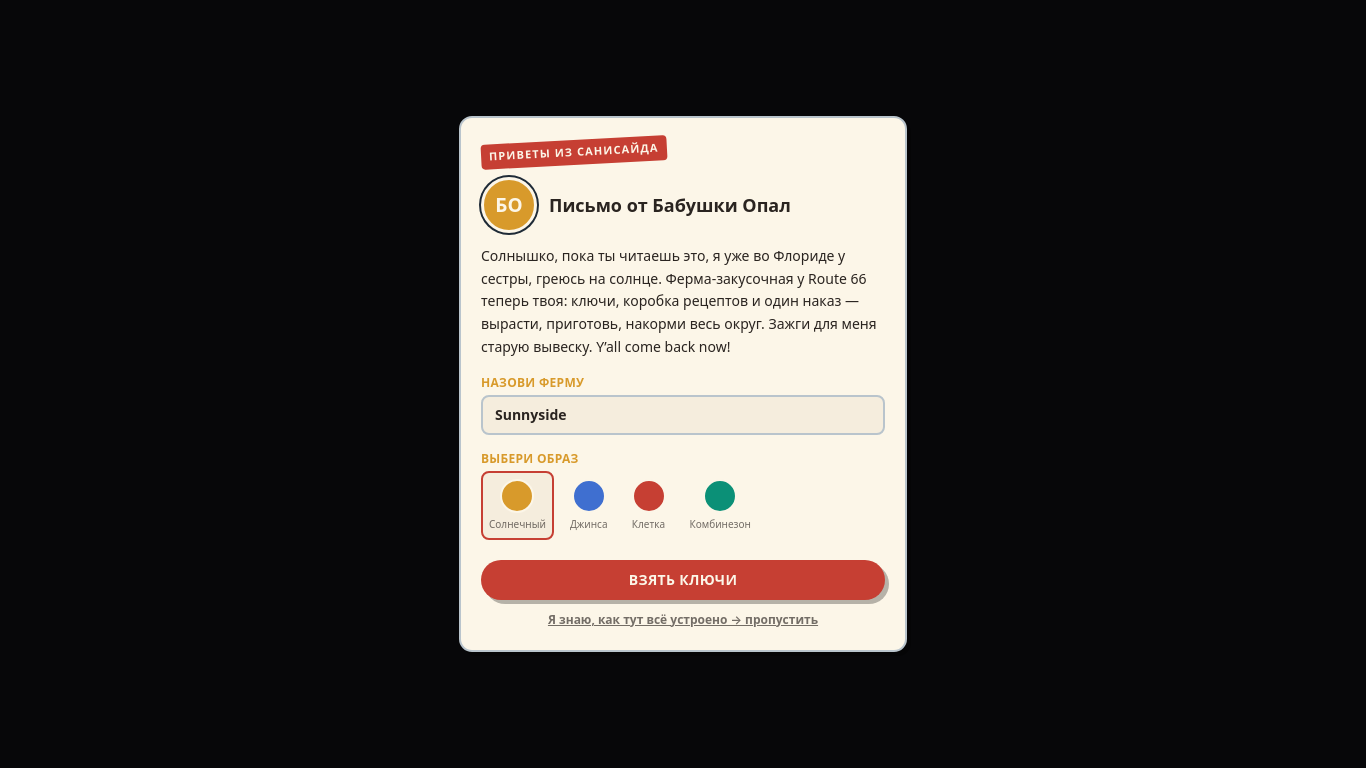
Test case: LegacyLetter (§2.1/§3.7) › Skip опытного игрока сразу выпускает (§3.7)
Click the button with test id "onboarding-skip": click(683, 620) [481, 612, 885, 628]
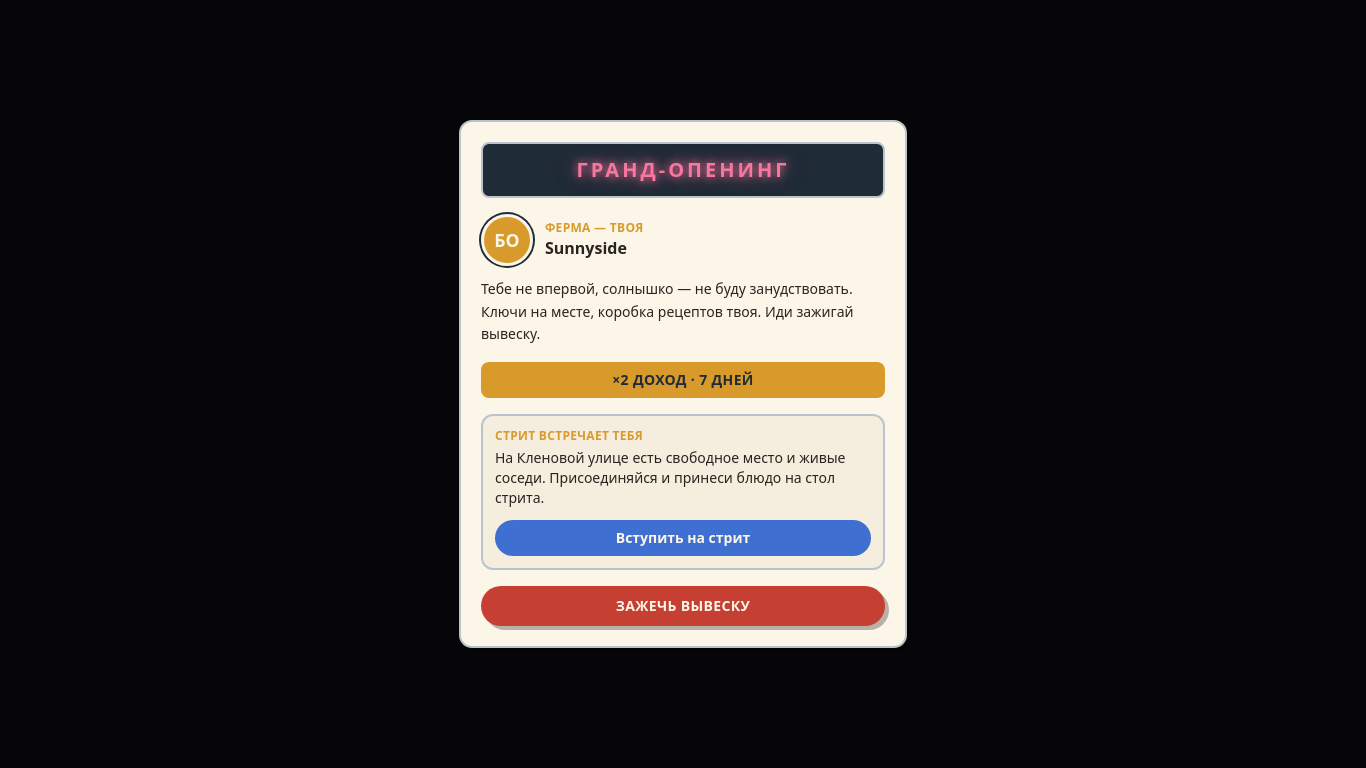
Check: the element with test id "onboarding-release" is shown
